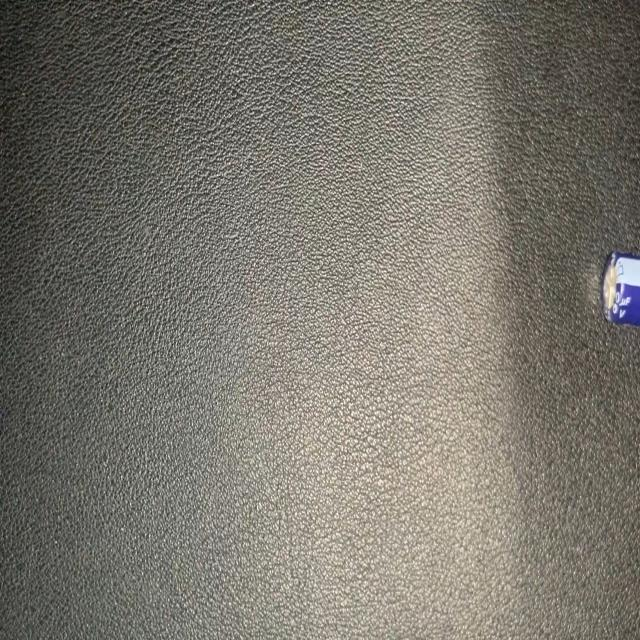capacitor: (598, 243, 640, 333)
